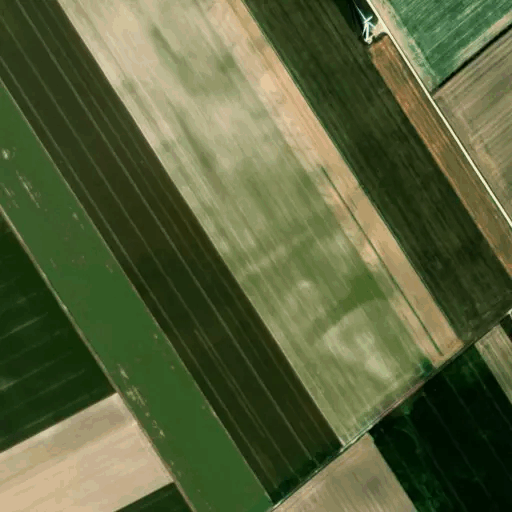wt: (339, 1, 394, 50)
